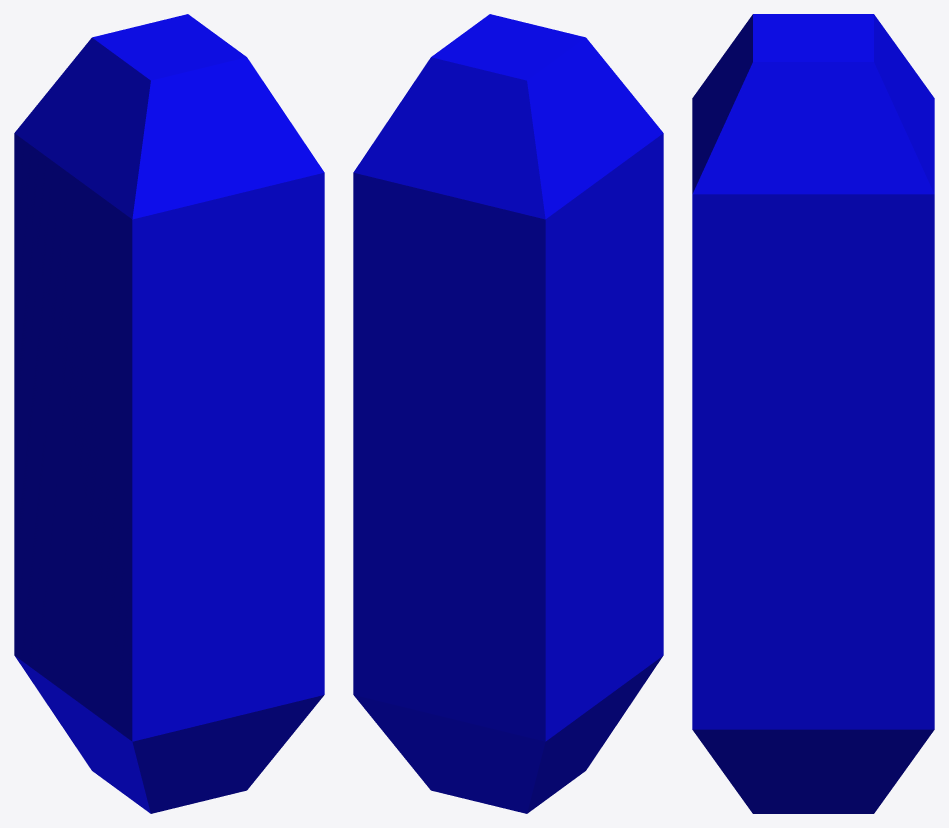
Rendered from BasicMutant-UpperLeg.fbx.
The picture shows the model from 3 angles, left to right: view 1: azimuth 30°, elevation 25°; view 2: azimuth 150°, elevation 25°; view 3: azimuth 270°, elevation 25°; orthographic projection. The views are drawn at different scales.
Visible parts, largest first — view 1: BasicMutant-UPPERLEG; view 2: BasicMutant-UPPERLEG; view 3: BasicMutant-UPPERLEG.
Boxes of the visible parts, x1,y1,x2,y2 form: BasicMutant-UPPERLEG: (14, 14, 324, 813); BasicMutant-UPPERLEG: (353, 14, 663, 813); BasicMutant-UPPERLEG: (692, 14, 934, 813).
Size of the model in its own units: 0.1568 by 0.5717 by 0.1668.
